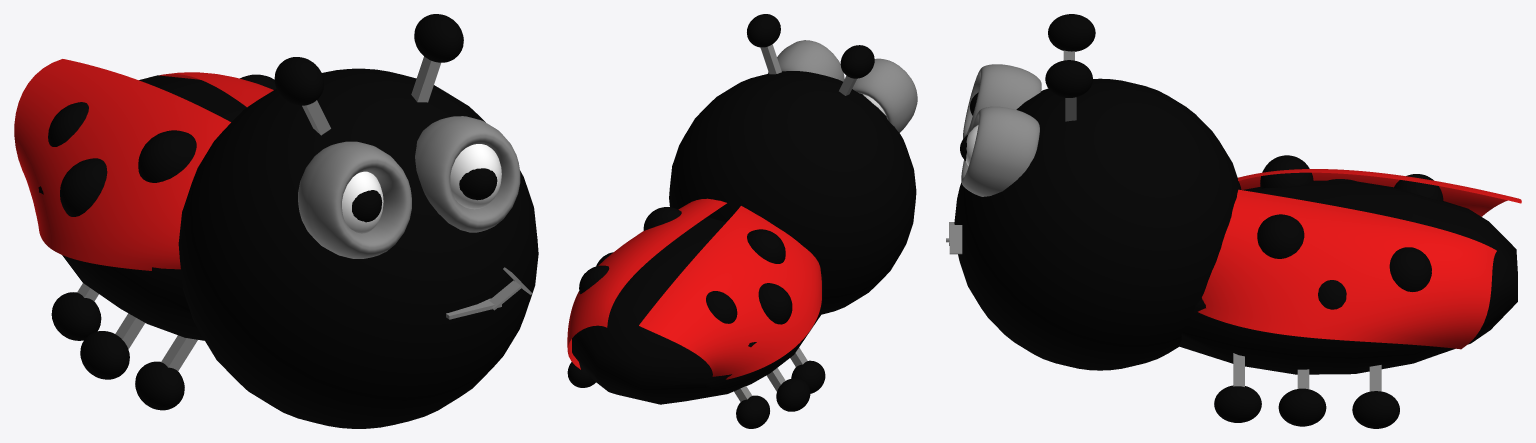
File: ladybub.fbx
3 views of the same model, side by side, from view 1: azimuth 30°, elevation 25°; view 2: azimuth 150°, elevation 25°; view 3: azimuth 270°, elevation 25° (orthographic). The views are drawn at different scales.
Visible parts, largest first — view 1: Sphere, SurfPatch.001, SurfTorus, Mball, SurfTorus.001, Sphere.004, Sphere.006, Sphere.017, Sphere.012, Sphere.011, Sphere.018, Sphere.016 (+10 smaller); view 2: Sphere, SurfPatch.001, Mball, SurfPatch, SurfTorus, SurfTorus.001, Sphere.006, Sphere.004, Sphere.012, Sphere.017, Sphere.011, Sphere.016 (+6 smaller); view 3: Sphere, SurfPatch, Mball, SurfTorus.001, SurfPatch.001, SurfTorus, Sphere.001, Sphere.003, Sphere.014, Sphere.011, Sphere.015, Sphere.012 (+4 smaller).
Part boxes in pixels (bbox=[...]): Sphere: bbox=[178, 68, 538, 428]; SurfPatch.001: bbox=[14, 59, 230, 270]; SurfTorus: bbox=[298, 141, 411, 258]; Mball: bbox=[38, 75, 246, 340]; SurfTorus.001: bbox=[415, 116, 520, 232]; Sphere.004: bbox=[138, 130, 196, 182]; Sphere.006: bbox=[60, 158, 107, 216]; Sphere.017: bbox=[80, 331, 129, 379]; Sphere.012: bbox=[274, 57, 324, 105]; Sphere.011: bbox=[414, 14, 463, 62]; Sphere.018: bbox=[135, 361, 184, 410]; Sphere.016: bbox=[51, 292, 101, 340]; Sphere: bbox=[669, 71, 916, 314]; SurfPatch.001: bbox=[639, 206, 821, 379]; Mball: bbox=[572, 217, 823, 404]; SurfPatch: bbox=[567, 198, 726, 369]; SurfTorus: bbox=[852, 58, 917, 132]; SurfTorus.001: bbox=[768, 40, 844, 81]; Sphere.006: bbox=[758, 283, 792, 324]; Sphere.004: bbox=[747, 229, 785, 263]; Sphere.012: bbox=[840, 45, 874, 78]; Sphere.017: bbox=[776, 378, 810, 411]; Sphere.011: bbox=[747, 14, 780, 47]; Sphere.016: bbox=[736, 395, 769, 428]; Sphere: bbox=[954, 78, 1241, 370]; SurfPatch: bbox=[1198, 189, 1496, 349]; Mball: bbox=[1179, 180, 1517, 374]; SurfTorus.001: bbox=[961, 106, 1039, 196]; SurfPatch.001: bbox=[1238, 169, 1521, 216]; SurfTorus: bbox=[963, 64, 1041, 138]; Sphere.001: bbox=[1257, 214, 1304, 258]; Sphere.003: bbox=[1389, 247, 1431, 291]; Sphere.014: bbox=[1278, 388, 1326, 426]; Sphere.011: bbox=[1045, 60, 1092, 97]; Sphere.015: bbox=[1352, 391, 1399, 428]; Sphere.012: bbox=[1048, 14, 1095, 51].
Size of the model in its own units: 202 by 261 by 394.
